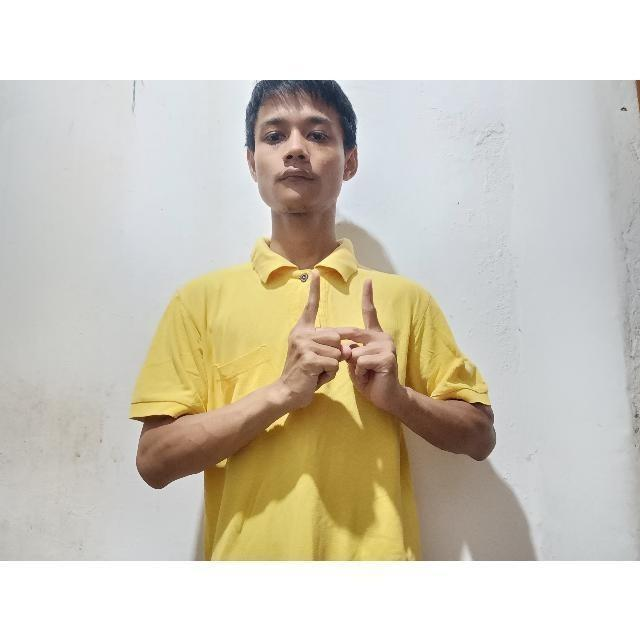H: (274, 263, 406, 403)
